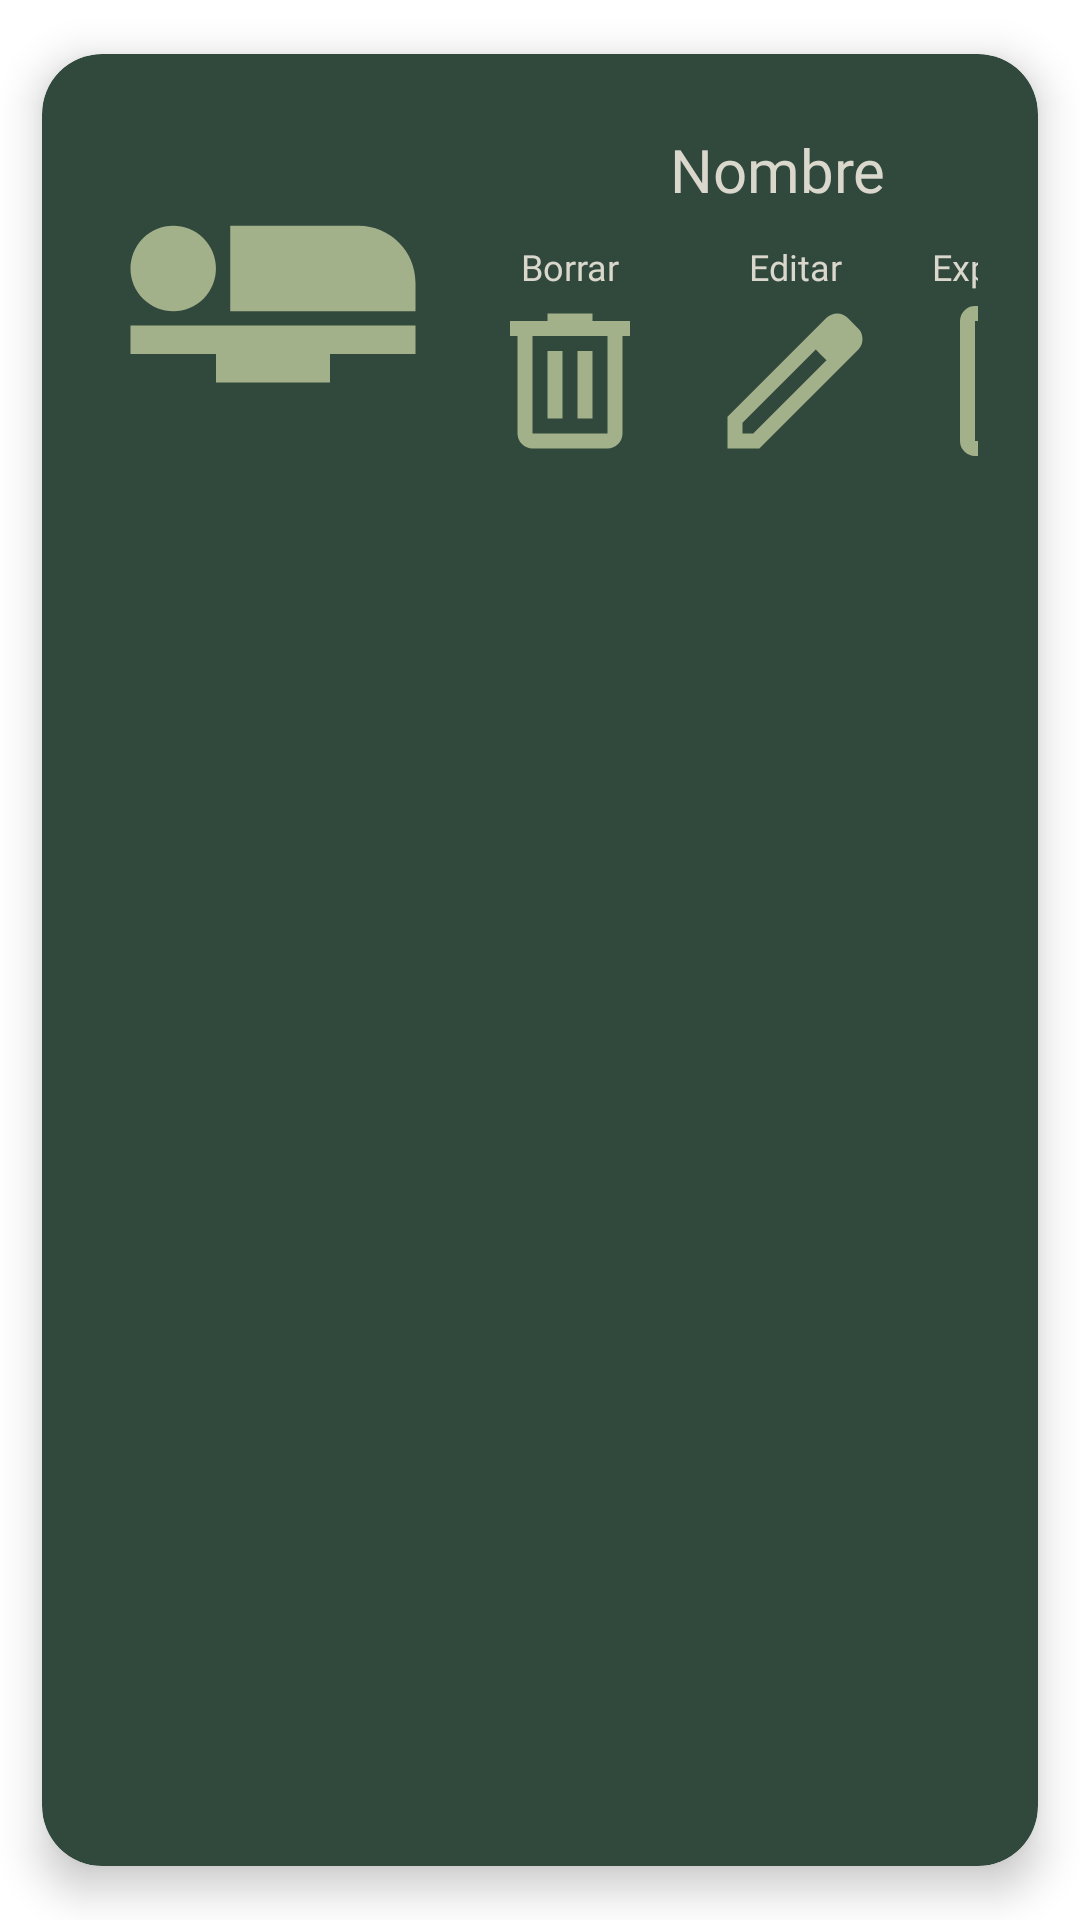

Icons on this 1080 x 1920 Android screen, each with its box as bbox(x1, y1, x2, y2):
airline seat: bbox(130, 225, 416, 383)
